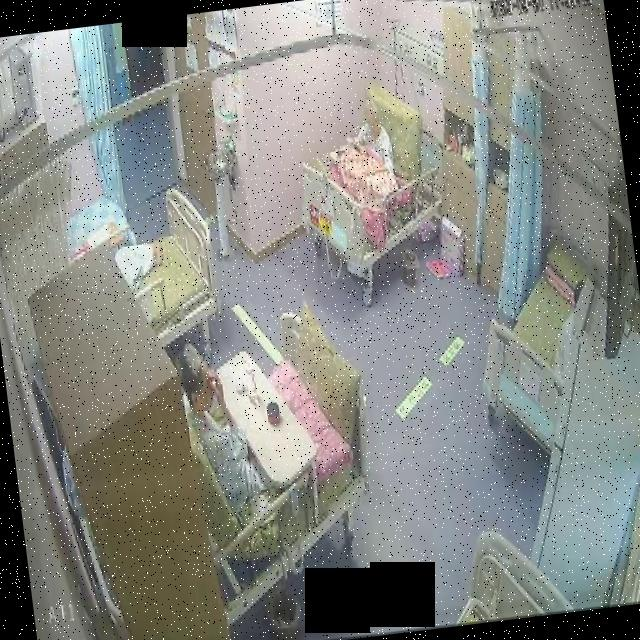bed: (175, 312, 381, 596), (466, 228, 607, 460), (290, 103, 450, 270), (112, 180, 225, 347)
patient: (172, 337, 266, 524), (354, 96, 398, 174)
sit: (174, 325, 359, 519), (322, 100, 404, 204)
